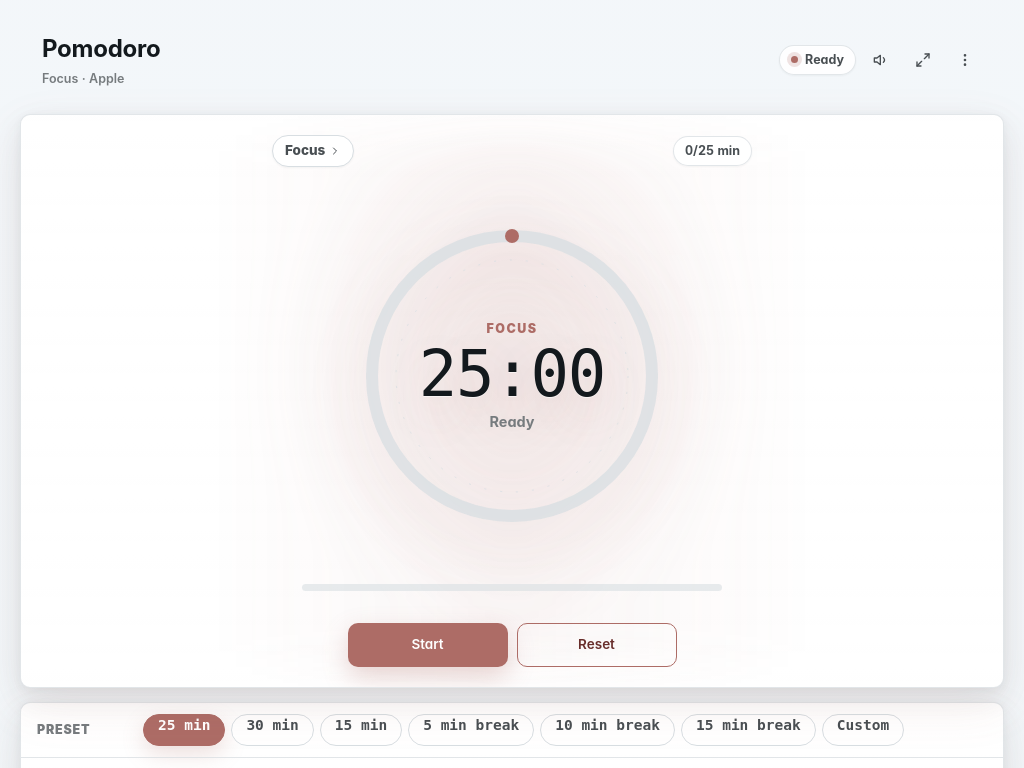
Scenario: PomodoroModule › M2: Start click transitions to running state
Click the button with test id "start-btn".
click(428, 645)  # box [348, 623, 508, 667]
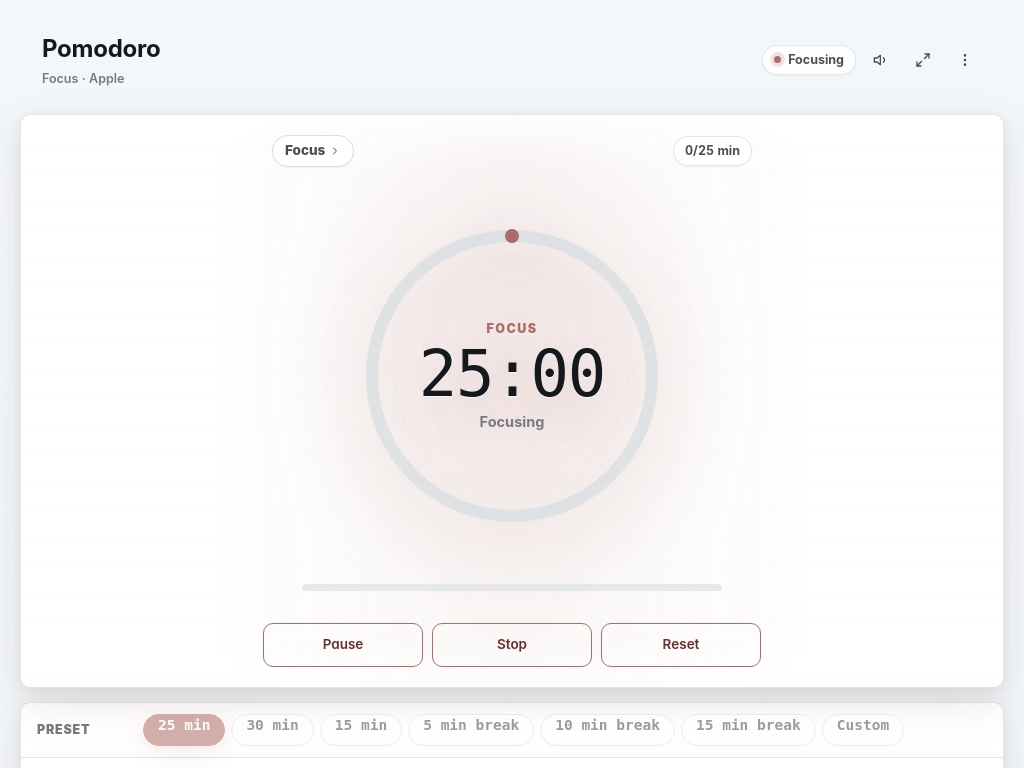
Expected: the button with test id "pause-btn" is shown, [263, 623, 423, 667]
Expected: the button with test id "end-btn" is shown, [432, 623, 592, 667]
Expected: the text with test id "timer-state" reads "Focusing", [480, 412, 544, 430]
